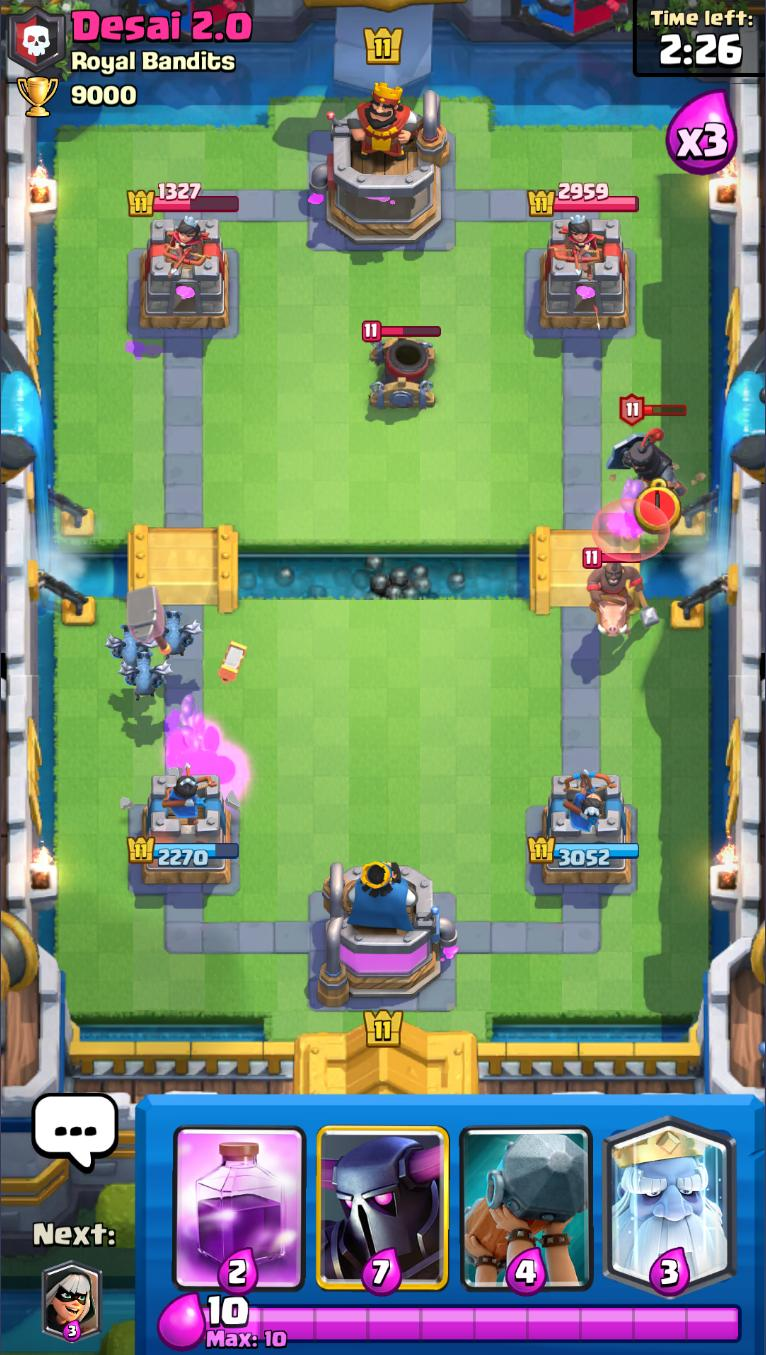BanditNext: (41, 1262, 105, 1343)
BattleRamDeck: (455, 1099, 598, 1295)
DarkPrince: (602, 394, 690, 505)
Elixir: (203, 1296, 744, 1351)
EnemyTower: (135, 216, 234, 331), (537, 216, 633, 333)
Hog: (581, 546, 659, 638)
KingTower: (307, 78, 453, 247)
Mortar: (362, 319, 442, 413)
MyKingTower: (315, 859, 460, 1009)
MyMinion: (118, 651, 173, 700), (153, 608, 203, 657), (105, 621, 158, 665)
MyPrincessTower: (526, 770, 641, 890), (128, 772, 242, 890)
MyPrincessTowerHP: (127, 836, 241, 869), (525, 835, 641, 867)
PekkaDeck: (312, 1101, 453, 1296)
RageDeck: (166, 1096, 312, 1295)
RoyaleGhostDeck: (597, 1097, 742, 1298)
TowerPrincessHP: (528, 182, 640, 219), (128, 182, 241, 218)
